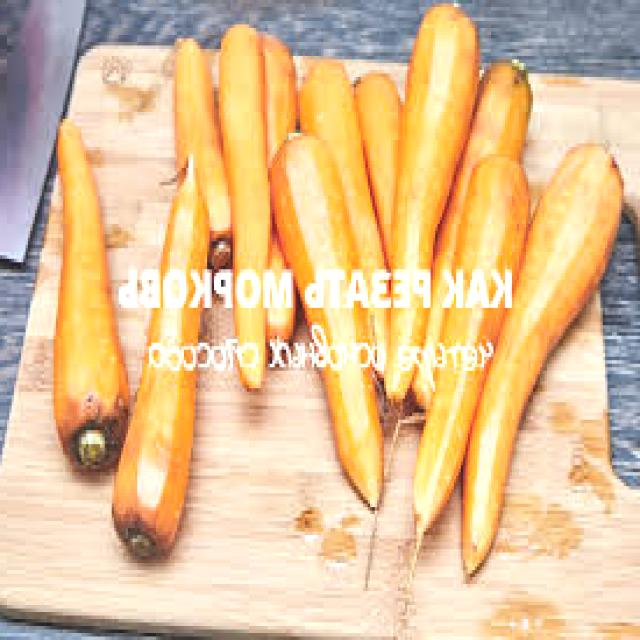garlic: (444, 142, 626, 586), (398, 140, 544, 559), (104, 155, 232, 588), (401, 54, 541, 446), (360, 0, 488, 410), (278, 110, 387, 516), (30, 88, 126, 509), (284, 58, 404, 384), (189, 0, 288, 390), (155, 15, 230, 276)
